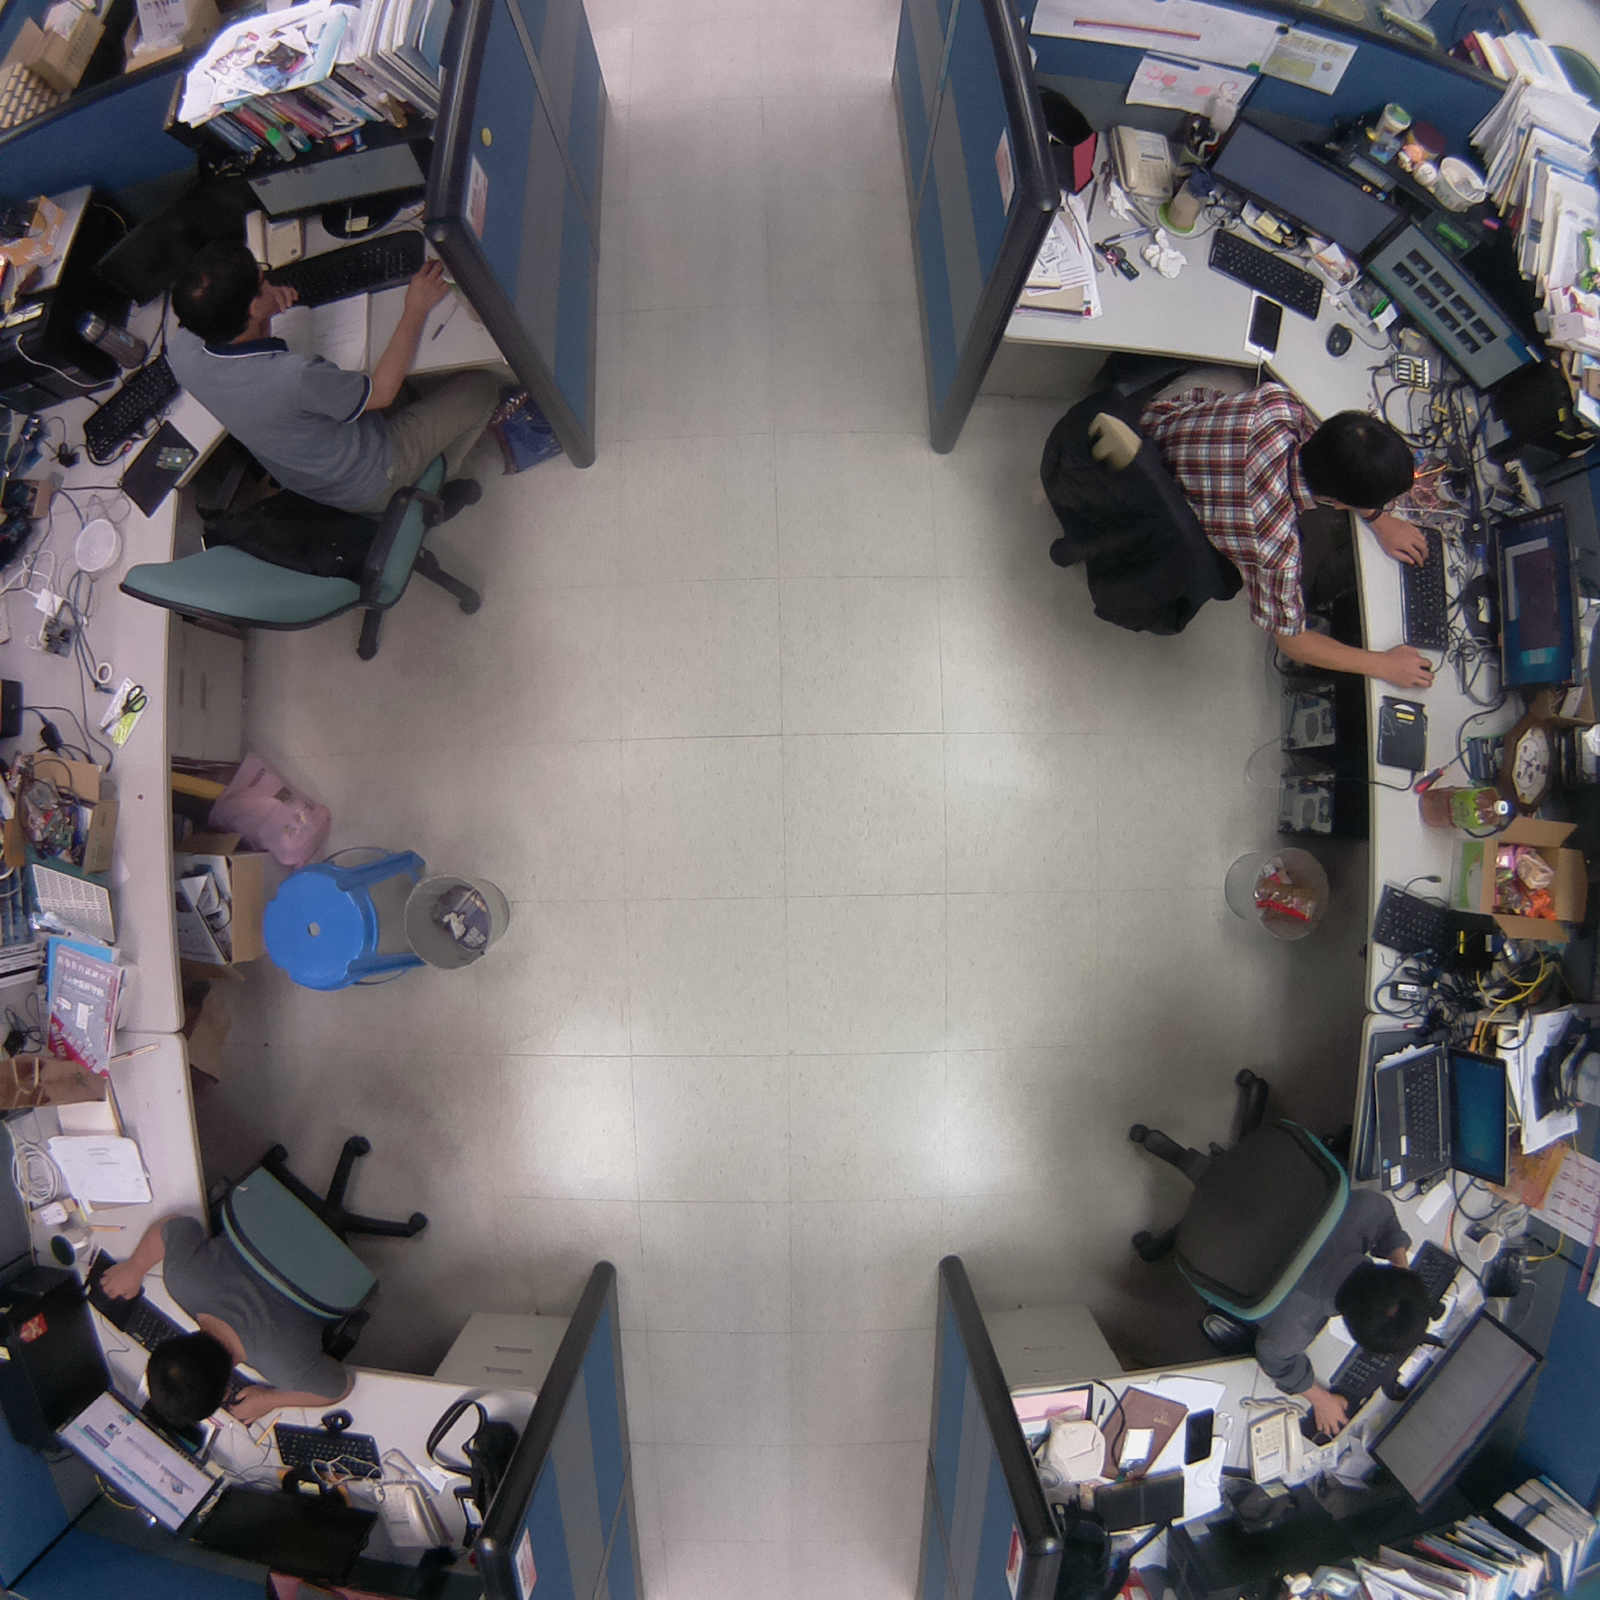head: (1285, 407, 1420, 524), (166, 236, 285, 345), (1330, 1261, 1439, 1365), (139, 1320, 239, 1432)
sitting: (109, 237, 517, 675), (1014, 340, 1465, 706), (1112, 1050, 1447, 1441), (95, 1122, 445, 1432)
